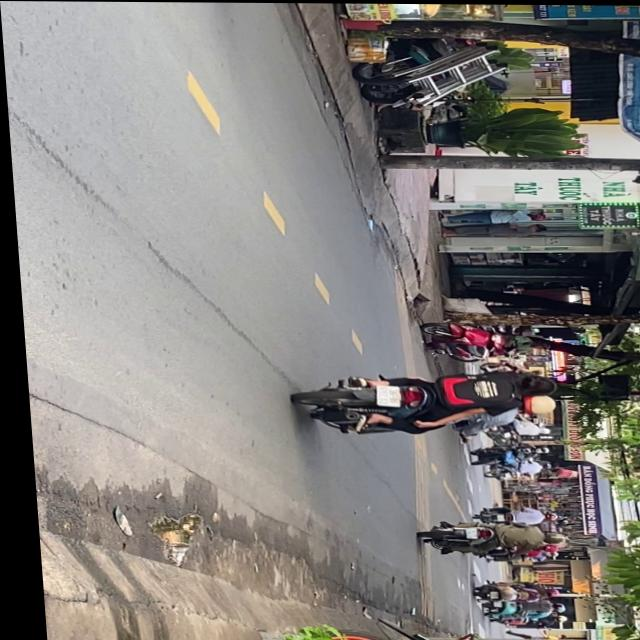helmet: (516, 392, 551, 413)
licenseplate: (288, 367, 558, 437)
motorcyclist: (509, 373, 554, 396)
nohelmet: (370, 384, 395, 404)
